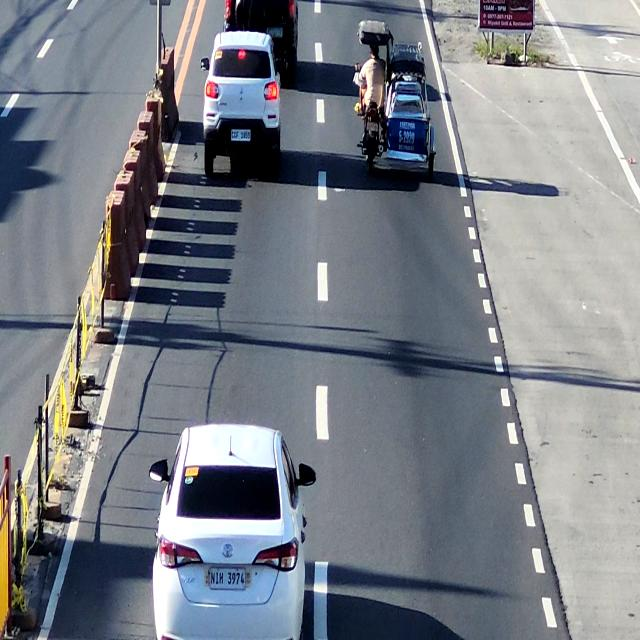Car: (152, 417, 314, 640), (204, 28, 278, 175)
License-Plate: (207, 563, 249, 595), (230, 129, 250, 144)
Tricycle: (353, 21, 443, 185)
